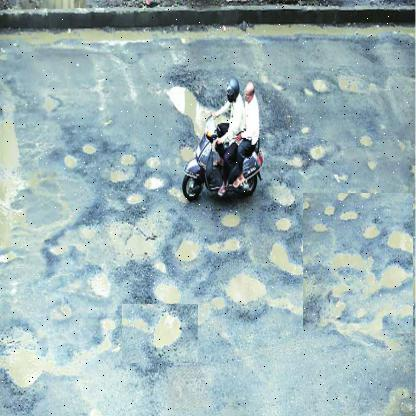pothole_water: (220, 260, 280, 314)
pothole_water_m: (303, 193, 414, 331), (122, 304, 199, 364), (138, 242, 190, 324)
